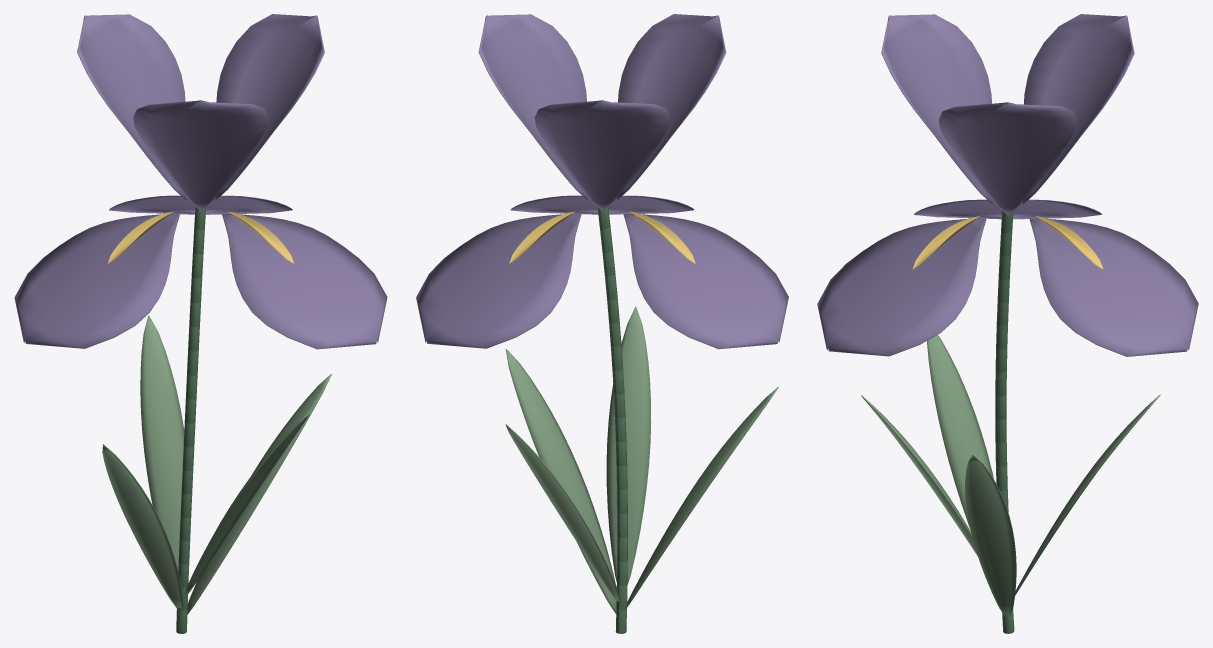
Rendered from iris-rare-v2.glb.
3 renders of one model, left to right at view 1: azimuth 30°, elevation 25°; view 2: azimuth 150°, elevation 25°; view 3: azimuth 270°, elevation 25°, orthographic. The views are drawn at different scales.
Visible parts, largest first — view 1: iris-rare-v2-petal, iris-rare-v2-leaf, iris-rare-v2-stem, iris-rare-v2-center; view 2: iris-rare-v2-petal, iris-rare-v2-leaf, iris-rare-v2-stem, iris-rare-v2-center; view 3: iris-rare-v2-petal, iris-rare-v2-leaf, iris-rare-v2-stem, iris-rare-v2-center.
Part boxes in pixels (x1=…): iris-rare-v2-petal: x1=14, y1=14, x2=387, y2=349; iris-rare-v2-leaf: x1=102, y1=315, x2=331, y2=614; iris-rare-v2-stem: x1=176, y1=206, x2=205, y2=633; iris-rare-v2-center: x1=107, y1=211, x2=294, y2=263; iris-rare-v2-petal: x1=416, y1=14, x2=788, y2=349; iris-rare-v2-leaf: x1=505, y1=306, x2=778, y2=614; iris-rare-v2-stem: x1=597, y1=206, x2=627, y2=633; iris-rare-v2-center: x1=509, y1=211, x2=695, y2=263; iris-rare-v2-petal: x1=817, y1=14, x2=1198, y2=356; iris-rare-v2-leaf: x1=861, y1=335, x2=1160, y2=616; iris-rare-v2-stem: x1=995, y1=210, x2=1014, y2=633; iris-rare-v2-center: x1=912, y1=216, x2=1103, y2=269.
Bounding box in the file's own units: 1.15 × 2.09 × 1.21.
